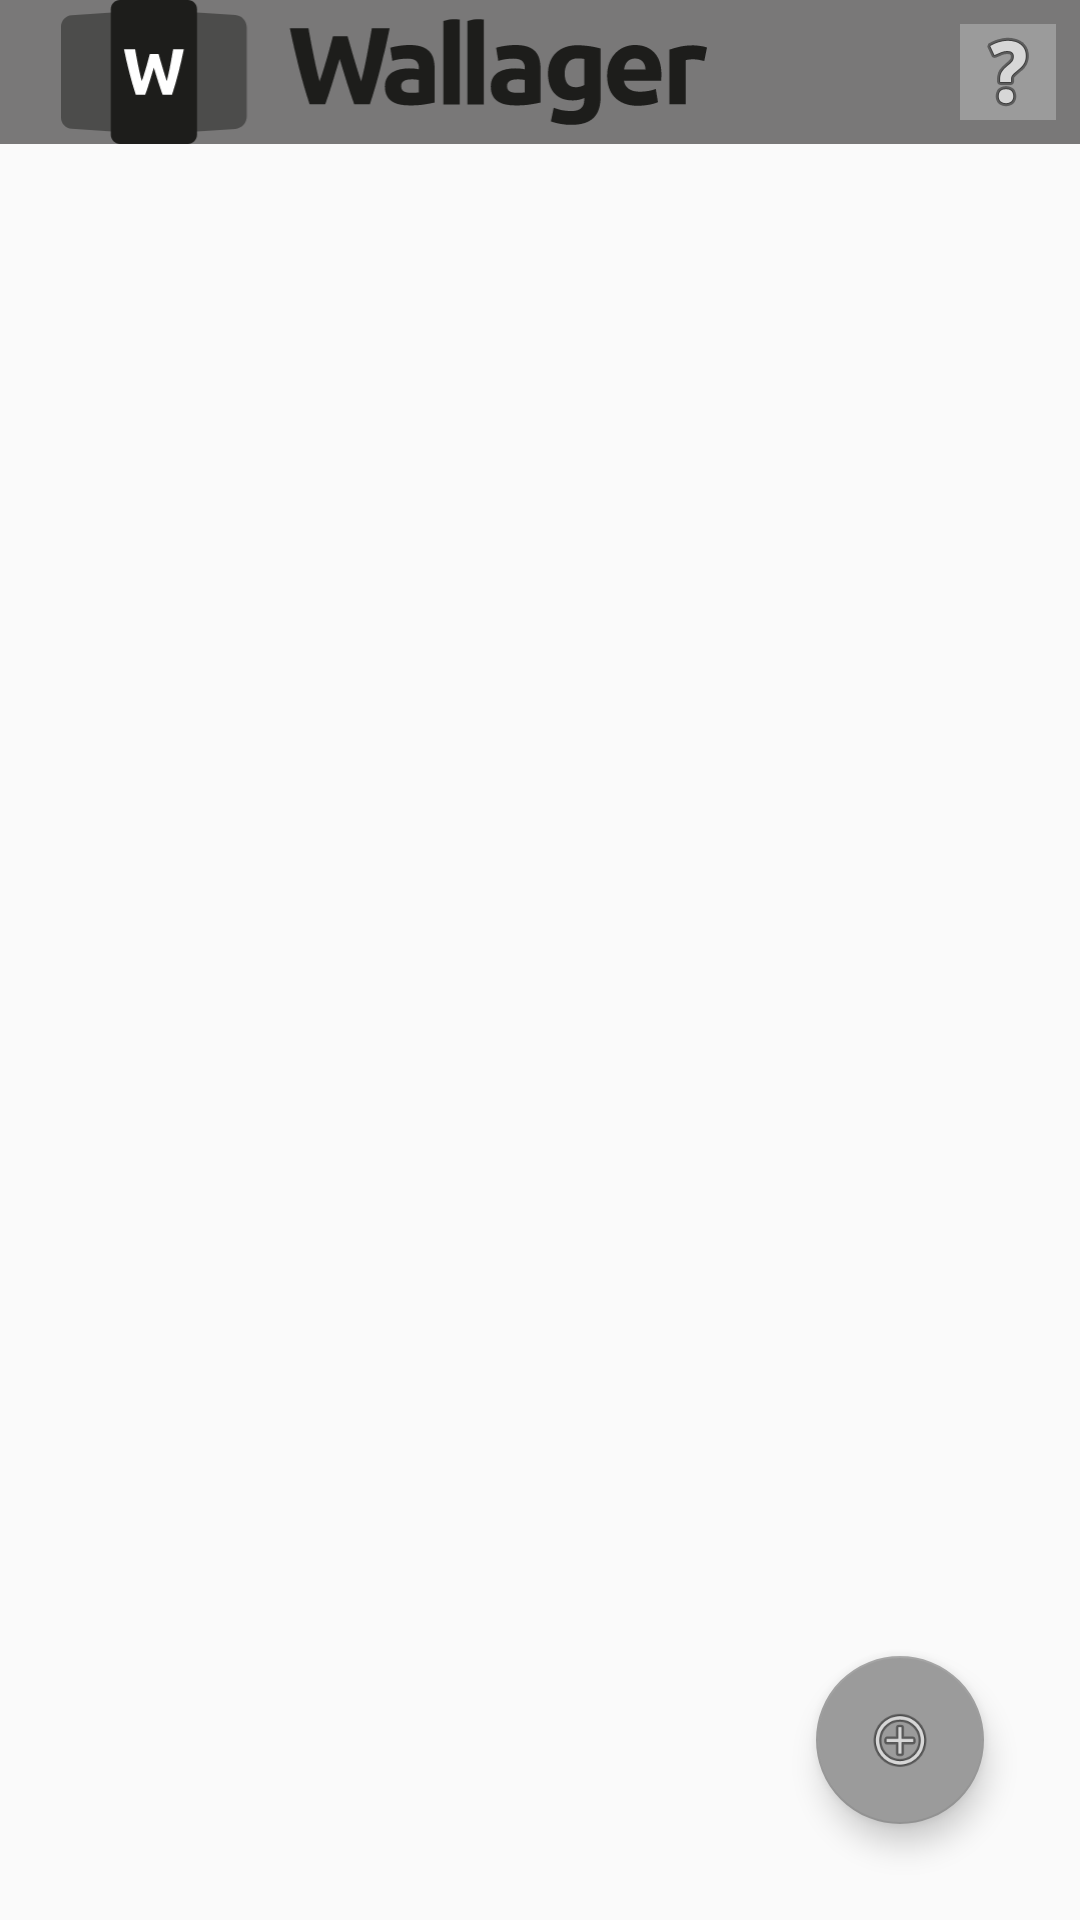

Where icons sit on this 1080x1920 app screen, as (x1, y1, x2, y2):
add: (816, 1656, 984, 1824)
help: (960, 24, 1056, 120)
